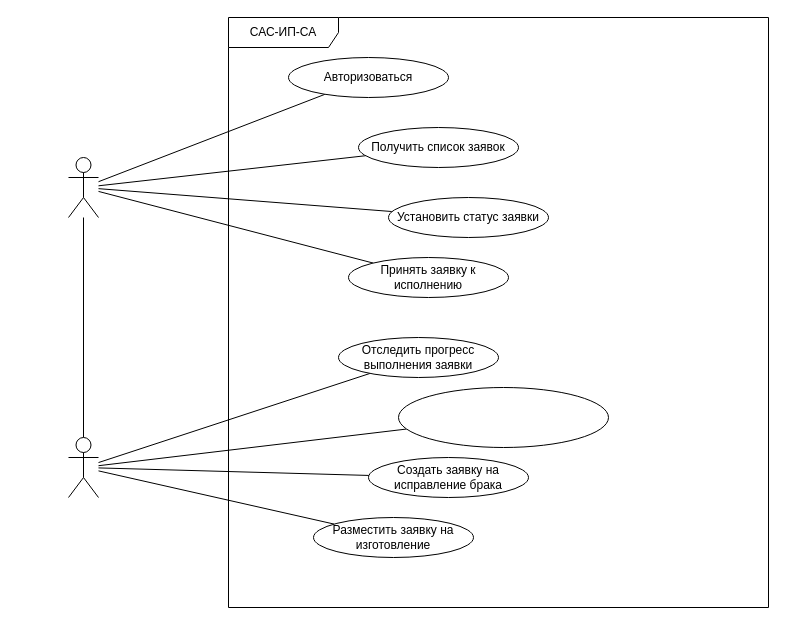
The diagram is 786 pixels wide and 625 high, and some of its shapes have lost their labels. Here are the shapes that lost their labels. From the top down, the centre of each, then its label:
the point at 83,187: Сотрудник
the point at 503,417: Утвердить заявку как готовую для выполнения
the point at 83,467: Сотрудник отдела сопровождения заказов
